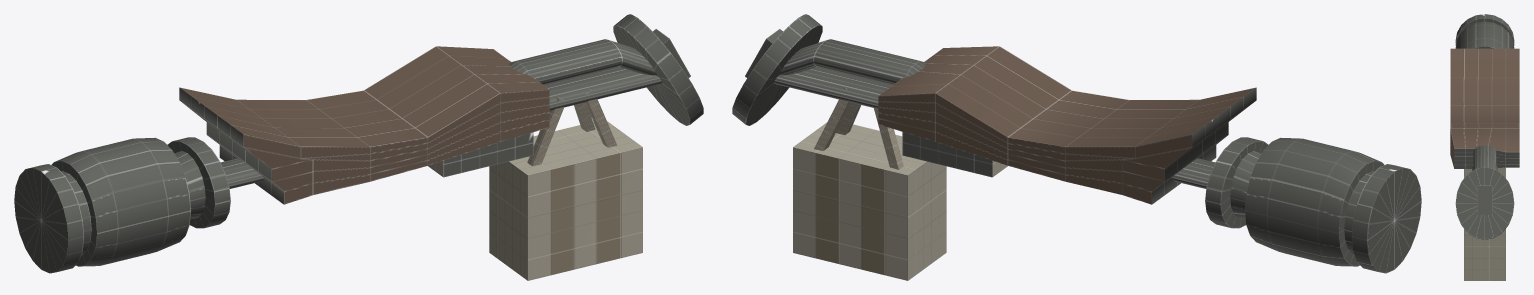
The model's file is broom.fbx.
The picture shows the model from 3 angles, left to right: view 1: azimuth 30°, elevation 25°; view 2: azimuth 150°, elevation 25°; view 3: azimuth 270°, elevation 25°; orthographic projection. The views are drawn at different scales.
Visible parts, largest first — view 1: pCube9; view 2: pCube9; view 3: pCube9.
Boxes of the visible parts, x1,y1,x2,y2 form: pCube9: (14,14,703,280); pCube9: (732,14,1421,280); pCube9: (1450,14,1519,280).
Bounding box in the file's own units: 4.02 × 1.35 × 0.6864.
